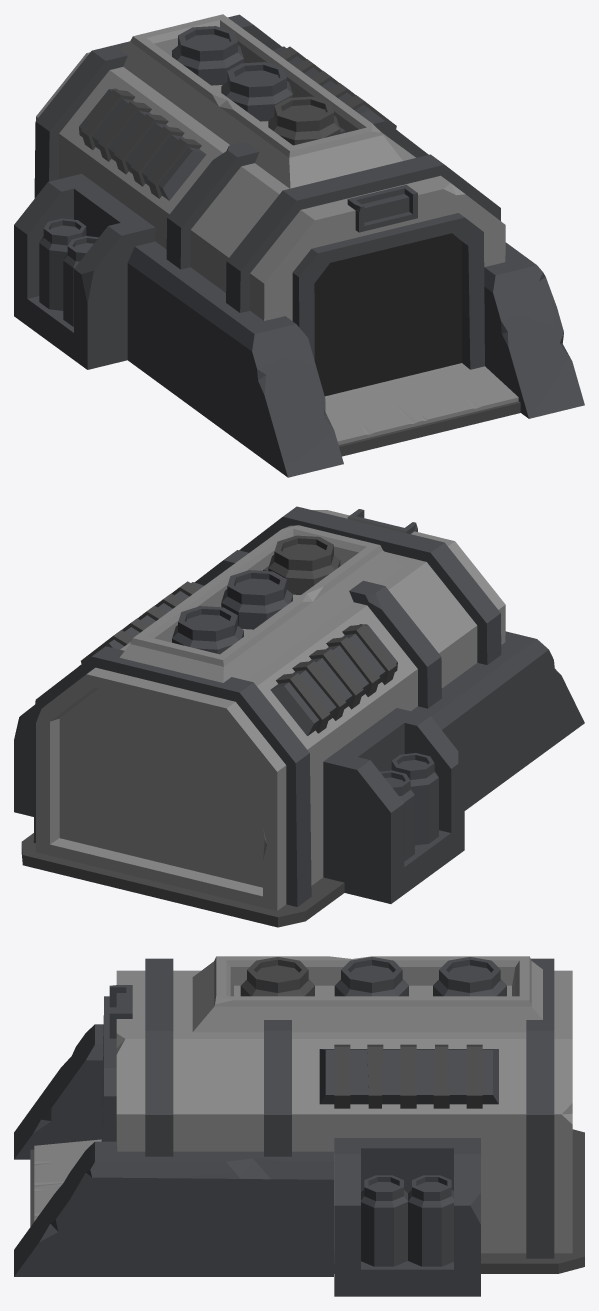
File: sm_bld_Large_05.fbx
The picture shows the model from 3 angles, top to bottom: view 1: azimuth 30°, elevation 25°; view 2: azimuth 150°, elevation 25°; view 3: azimuth 270°, elevation 25°; orthographic projection.
Visible parts, largest first — view 1: SM_Bld_Large_05; view 2: SM_Bld_Large_05; view 3: SM_Bld_Large_05.
Boxes of the visible parts, x1=… form: SM_Bld_Large_05: x1=14, y1=14, x2=584, y2=477; SM_Bld_Large_05: x1=14, y1=506, x2=584, y2=927; SM_Bld_Large_05: x1=14, y1=956, x2=584, y2=1296.
Size of the model in its own units: 983 by 587 by 1292.
